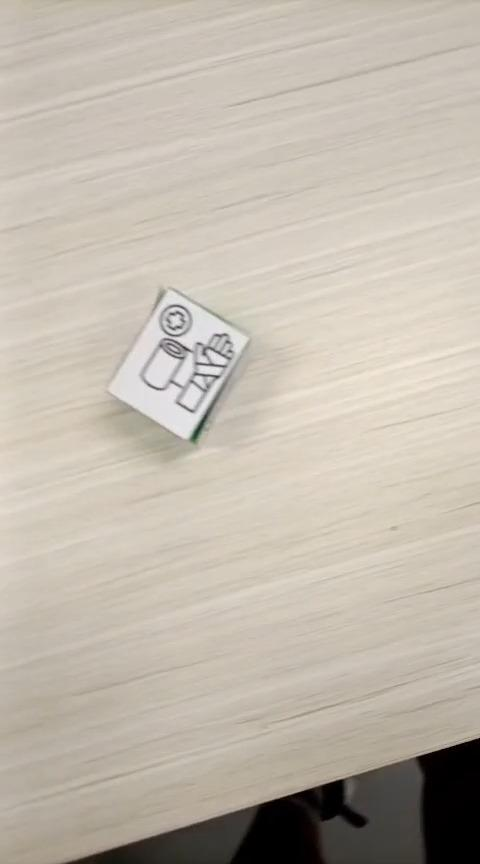Bandages: (106, 284, 251, 444)
